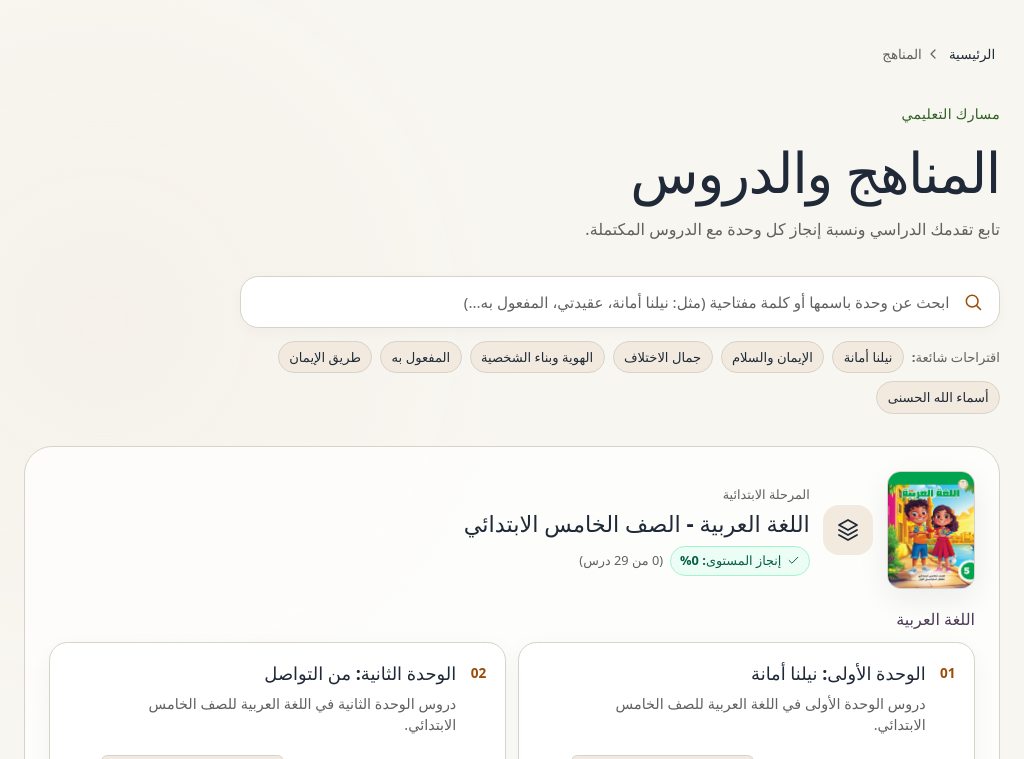
it: واجهة شريط البحث في صفحة المناهج (CurriculumPage Search Bar UI) › يصفي الوحدات المعروضة عند الكتابة في شريط البحث
The width and height of the screenshot is (1024, 759).
البحث عن وحدة "الإيمان والسلام"
Replace the text in the search field labelled "ابحث عن وحدة" with "الإيمان والسلام" at (620, 302), box [240, 276, 1000, 328]
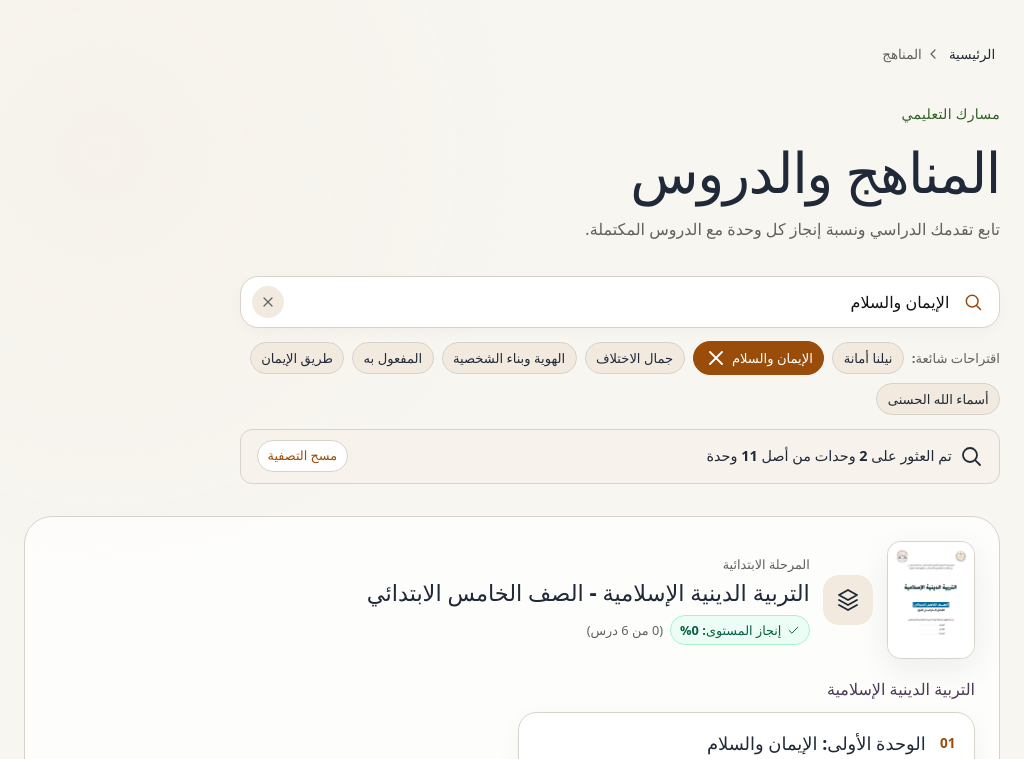
Check: the heading "الوحدة الأولى: الإيمان والسلام" is shown, box [707, 731, 926, 755]
Check: the text "تم العثور على 2 وحدات من أصل 11 وحدة" is shown, box [706, 444, 952, 469]
Check: the link "الوحدة الأولى: نيلنا أمانة" is gone
